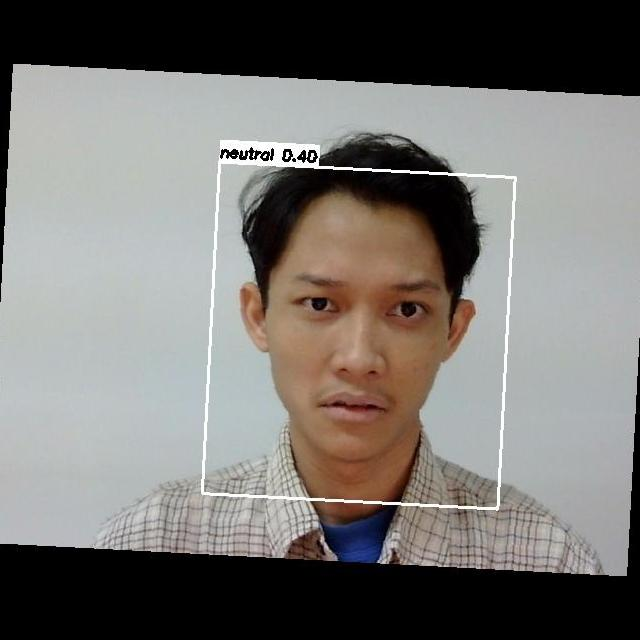Fear: (255, 243, 456, 438)
